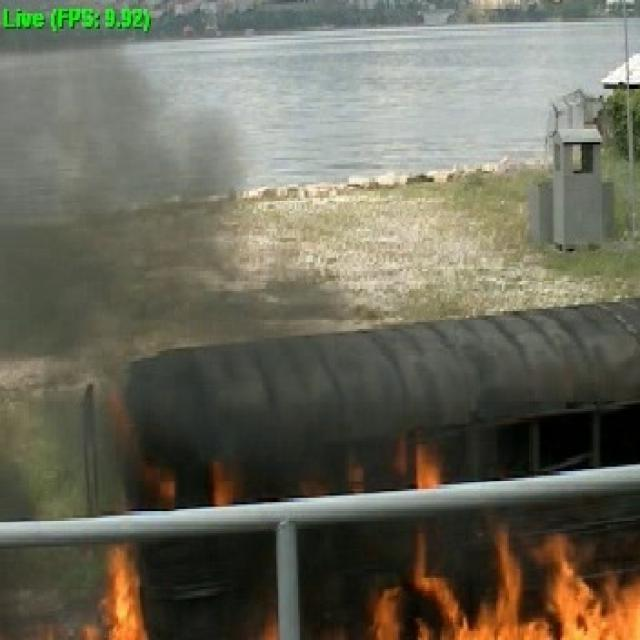fire: (405, 553, 640, 638), (100, 552, 142, 640)
